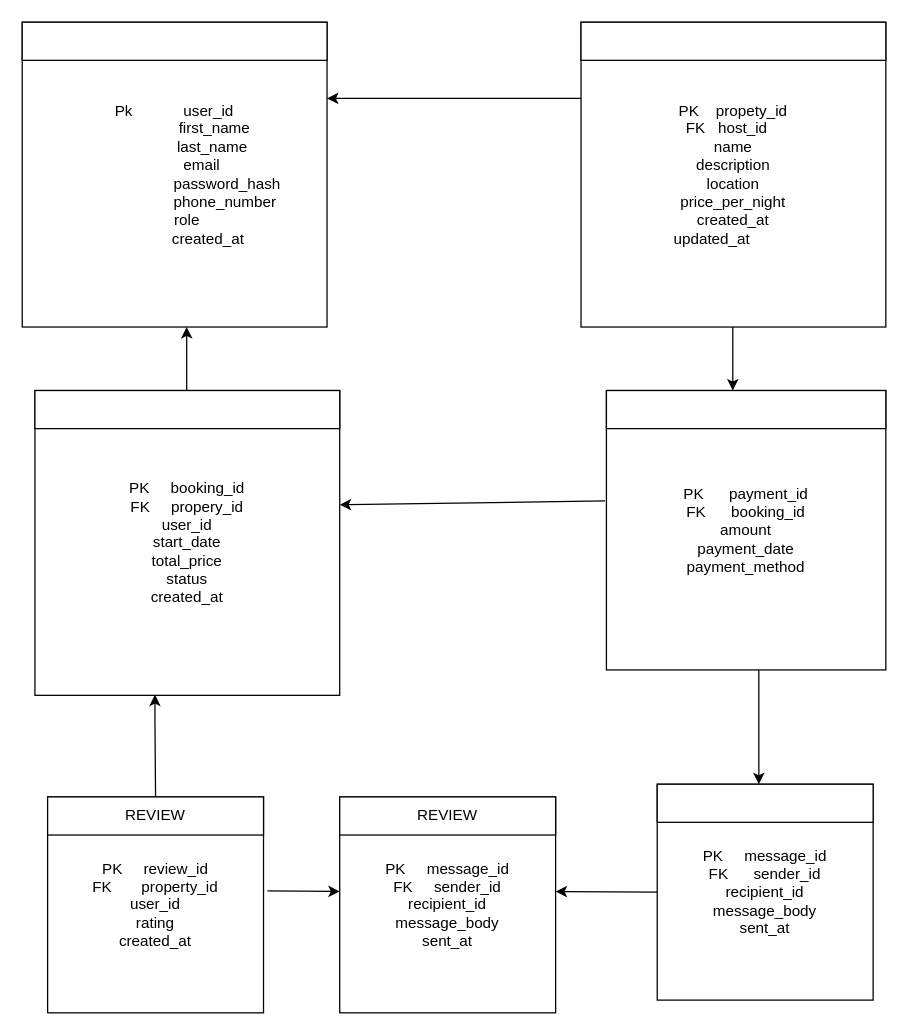
This 908x1035 diagram has some shape labels left out. Each missing label, with the centre of its shape:
BOOKING: pixel 187 409
MESSAGE: pixel 764 802
PAYMENT: pixel 745 409
PROPERTY: pixel 733 40
USER: pixel 174 40
